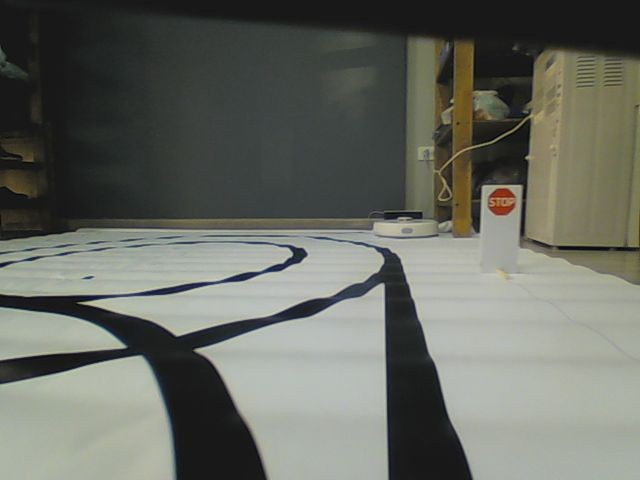Stop: (485, 187, 518, 216)
